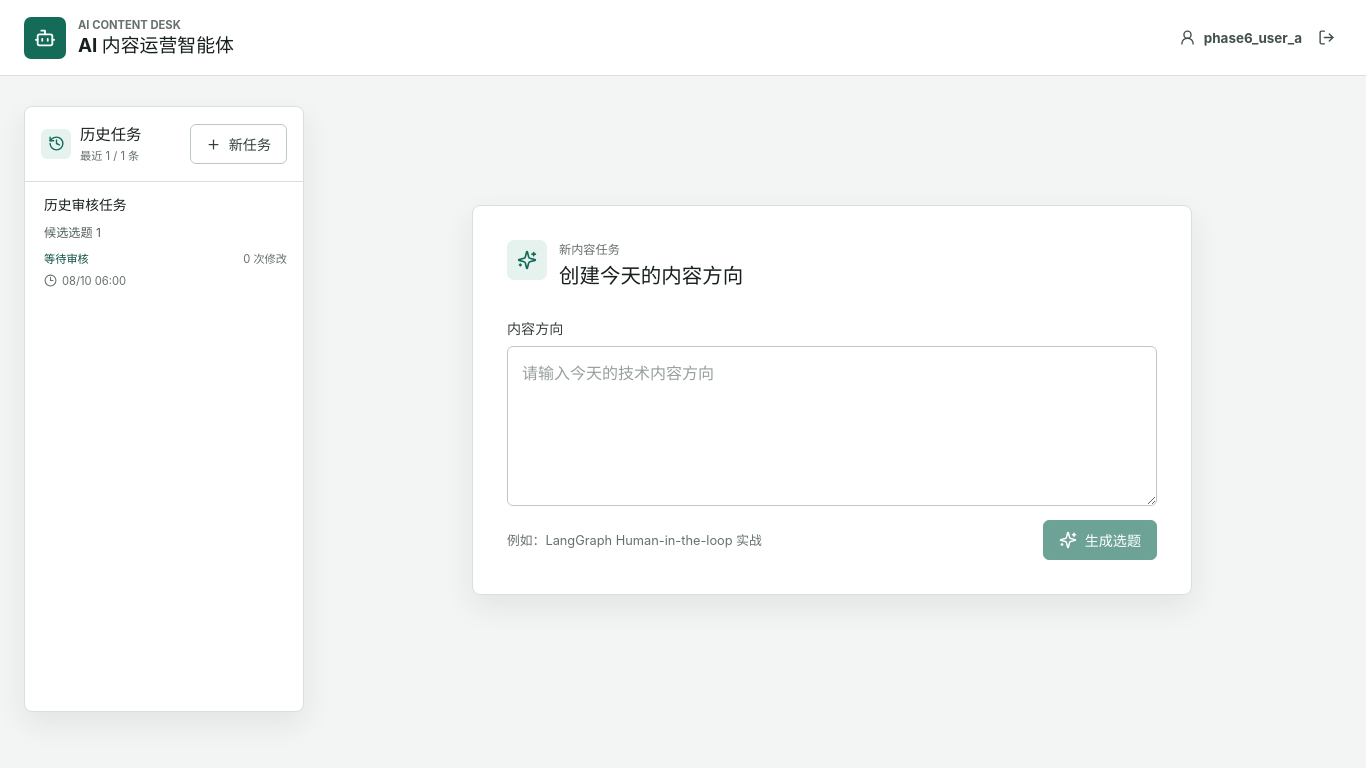
Scenario: AI content workflow › opens a waiting review history item and can reject it
Click the button "历史审核任务 候选选题 1 等待审核 0 次修改 08/10 06:00": (85, 205) [25, 182, 303, 308]
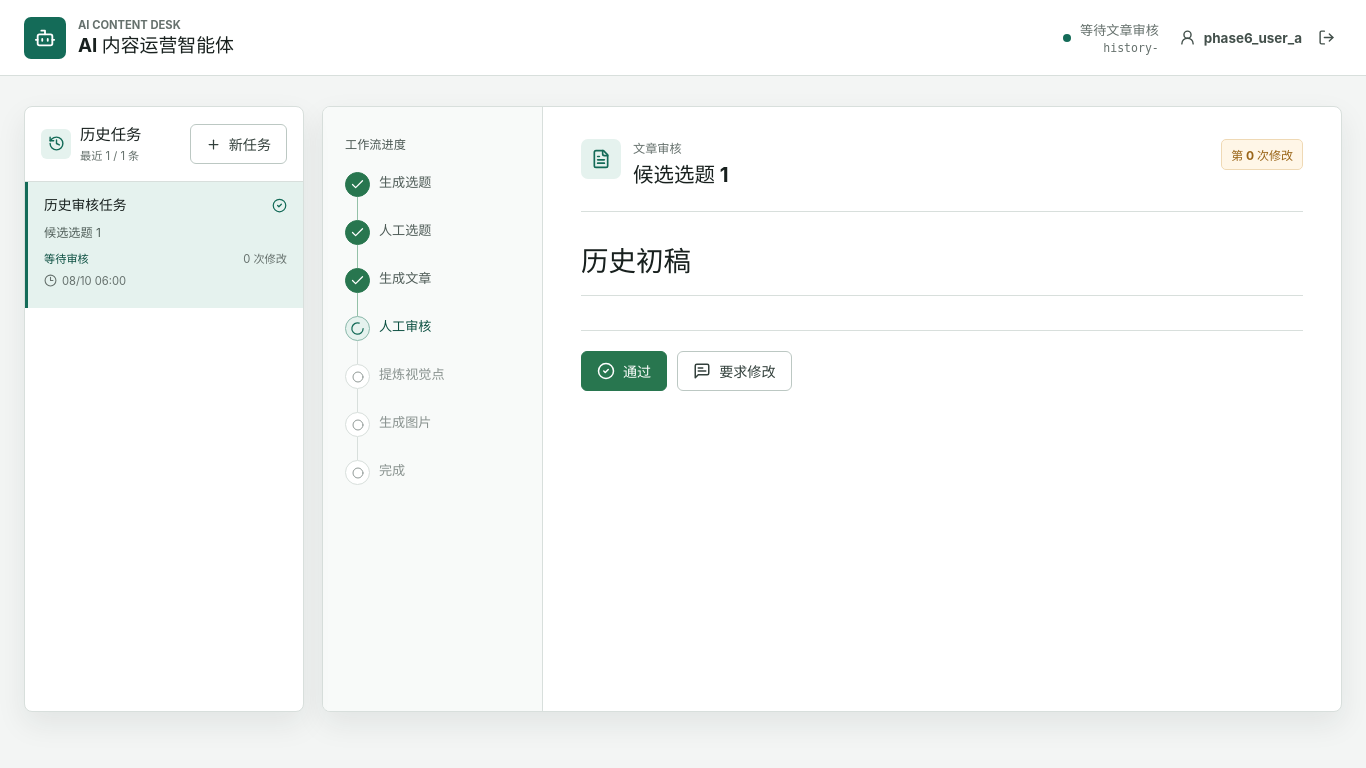
Expected: the heading "历史初稿" is shown, [581, 242, 1303, 296]
Click the button "要求修改": (734, 371) [677, 351, 792, 391]
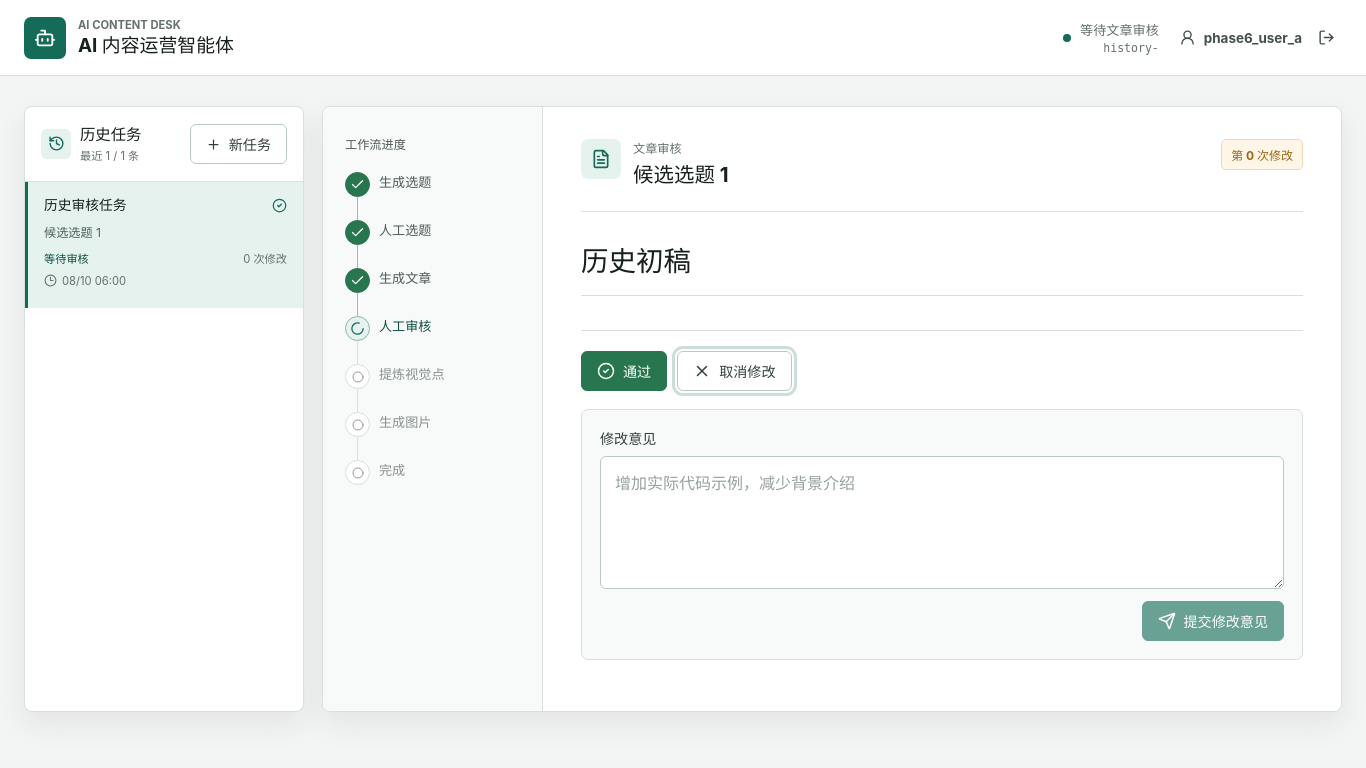
In the text box labelled "修改意见": (942, 523) [600, 456, 1284, 589], type "增加恢复示例"
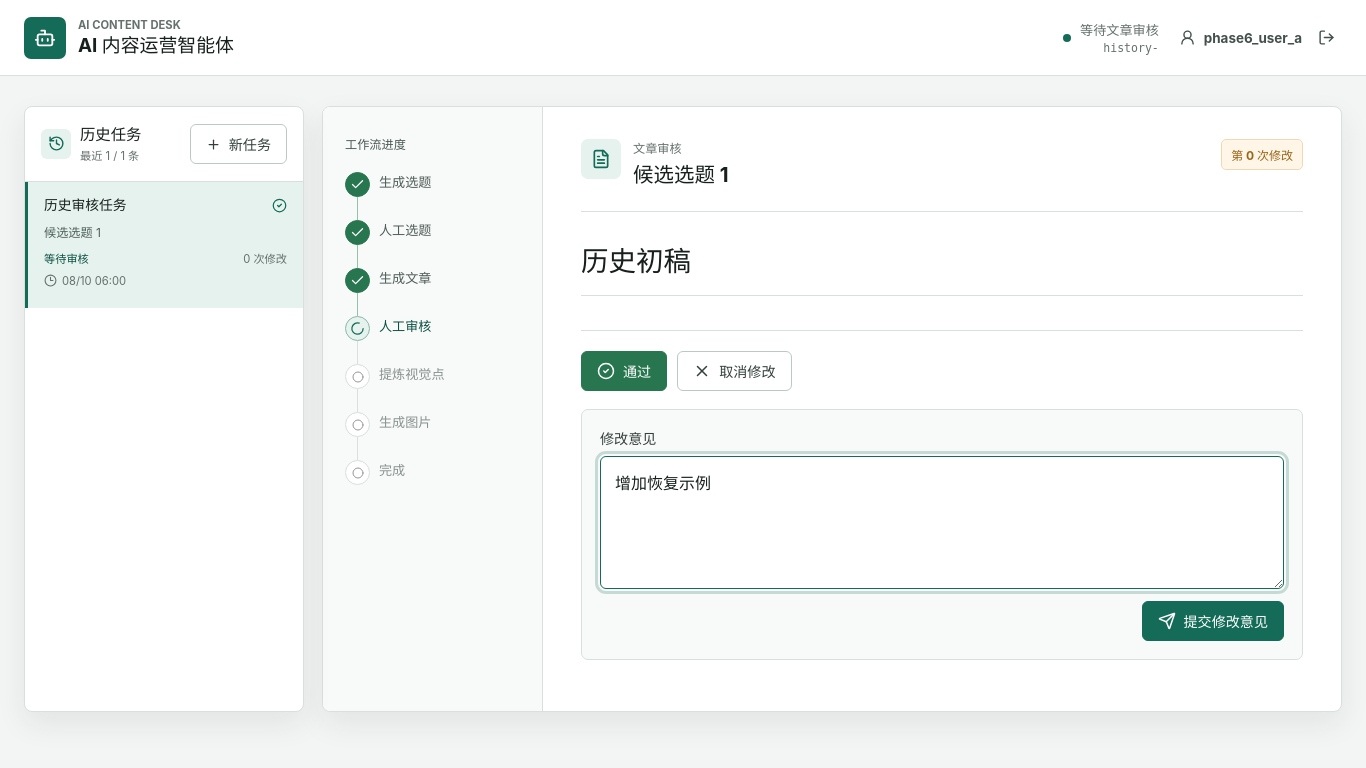
Click the button "提交修改意见": (1213, 621) [1142, 601, 1284, 641]
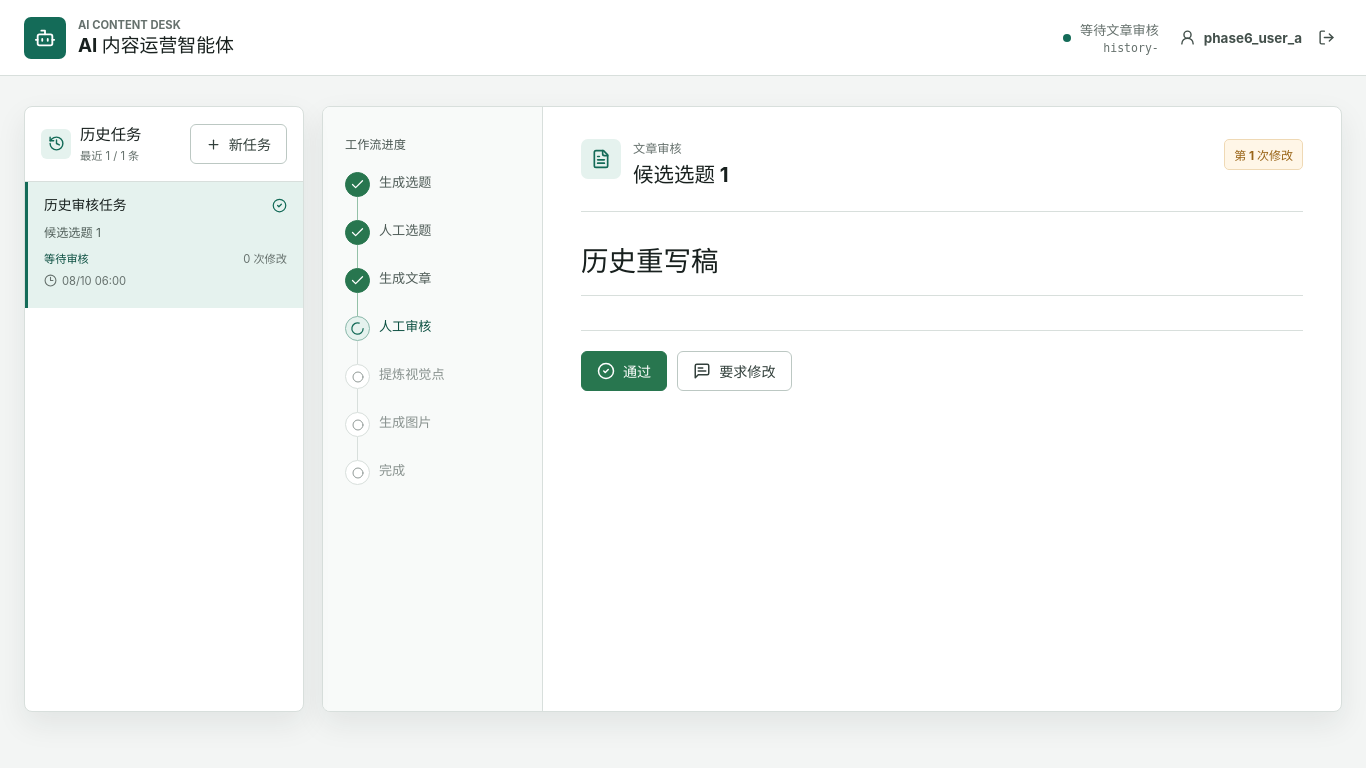
Expected: the heading "历史重写稿" is shown, [581, 242, 1303, 296]
